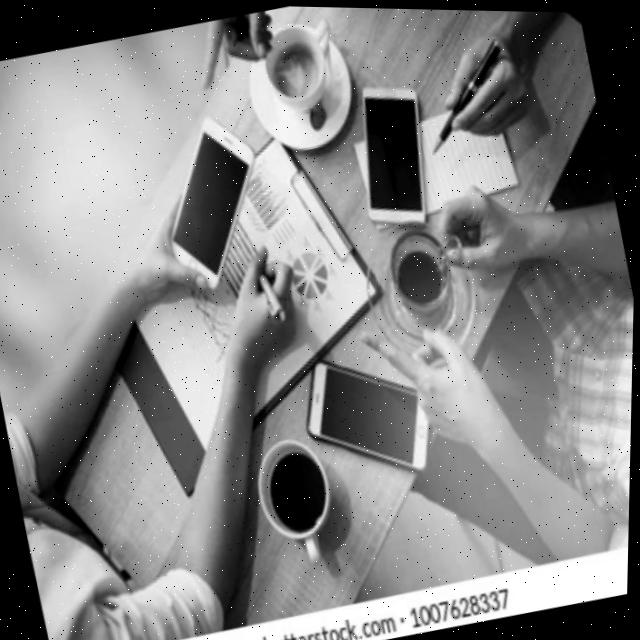phone: (143, 103, 283, 297), (291, 333, 443, 491), (340, 70, 446, 233)
